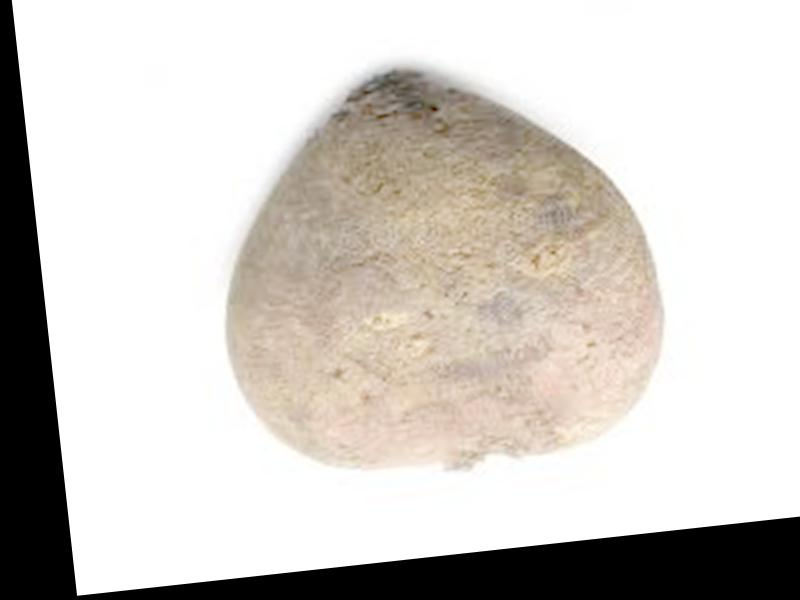Beet: (196, 45, 679, 490)
